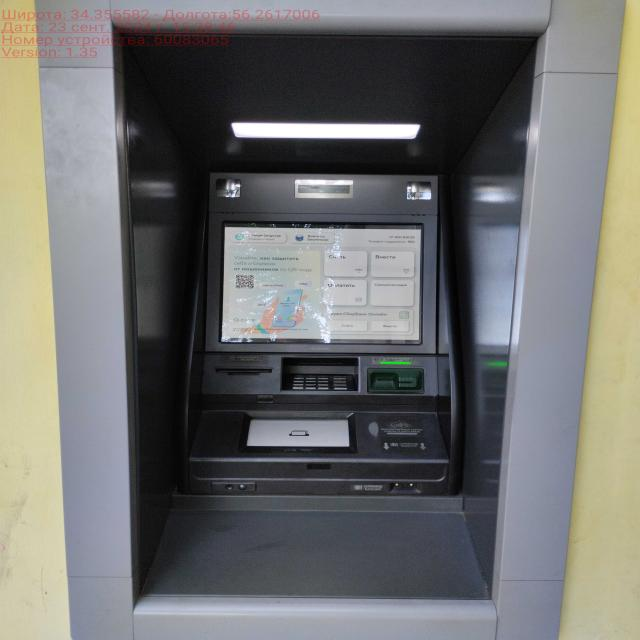bank: (135, 83, 486, 576)
